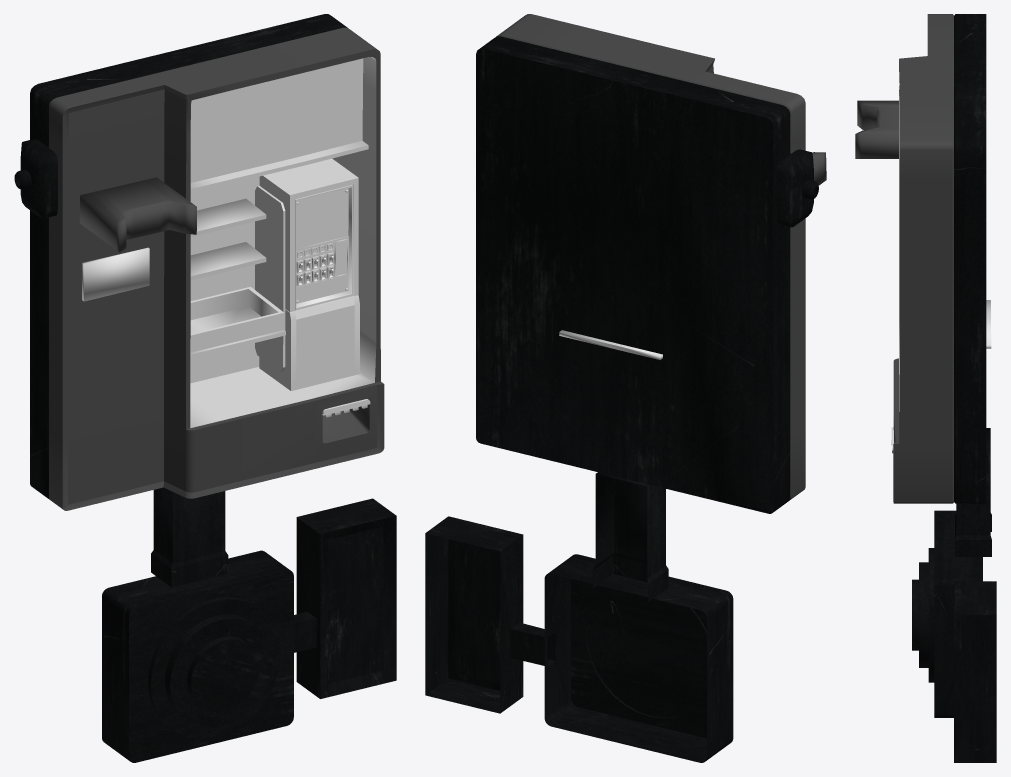
The model's file is phone_booth_moduleFix.fbx.
The picture shows the model from 3 angles, left to right: view 1: azimuth 30°, elevation 25°; view 2: azimuth 150°, elevation 25°; view 3: azimuth 270°, elevation 25°; orthographic projection. The views are drawn at different scales.
Visible parts, largest first — view 1: module; view 2: module; view 3: module.
Part boxes in pixels (x1,y1,x2,y2): module: [14, 14, 396, 762]; module: [425, 14, 826, 762]; module: [855, 14, 996, 762].
Size of the model in its own units: 145 by 248 by 52.32.
